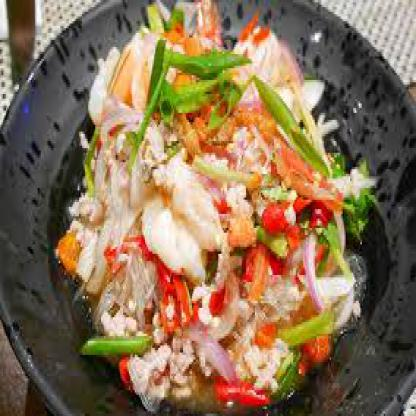Yum: (64, 21, 378, 404)
